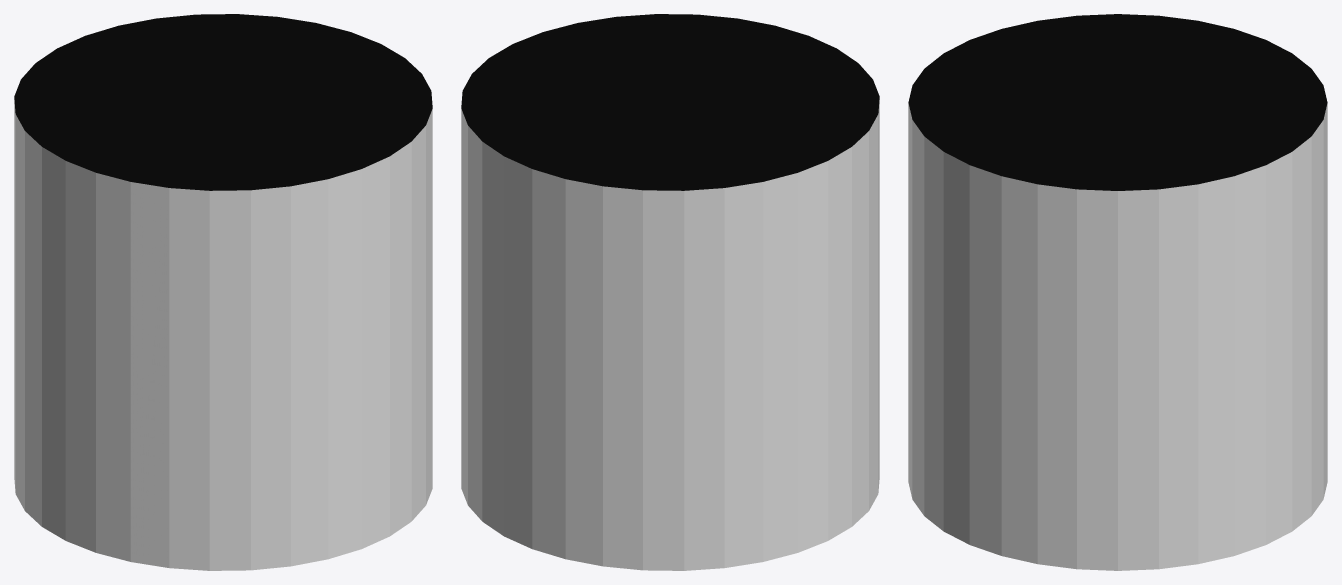
3 renders of one model, left to right at view 1: azimuth 30°, elevation 25°; view 2: azimuth 150°, elevation 25°; view 3: azimuth 270°, elevation 25°, orthographic.
Visible parts, largest first — view 1: 円柱_円柱.001; view 2: 円柱_円柱.001; view 3: 円柱_円柱.001.
Part boxes in pixels (x1=…): 円柱_円柱.001: x1=14, y1=14, x2=432, y2=570; 円柱_円柱.001: x1=461, y1=14, x2=879, y2=570; 円柱_円柱.001: x1=908, y1=14, x2=1327, y2=570.
Size of the model in its own units: 2 by 2 by 2.
1 material, 1 textured.
